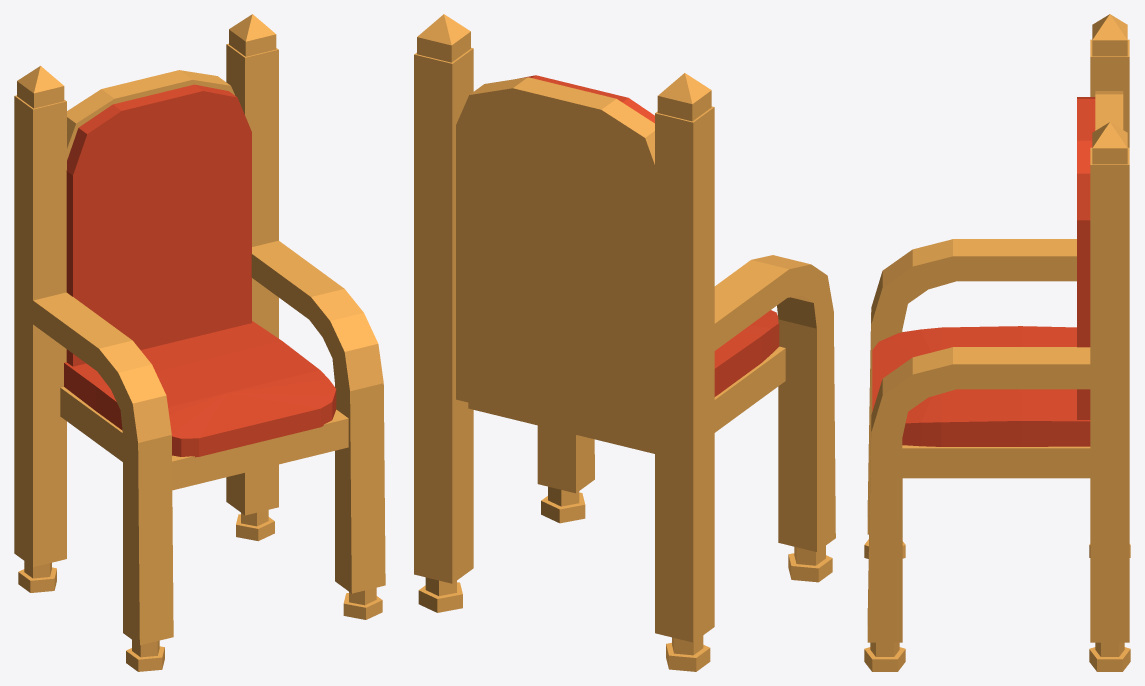
File: chair.fbx
3 views of the same model, side by side, from view 1: azimuth 30°, elevation 25°; view 2: azimuth 150°, elevation 25°; view 3: azimuth 270°, elevation 25° (orthographic). The views are drawn at different scales.
Visible parts, largest first — view 1: chair; view 2: chair; view 3: chair.
Boxes of the visible parts, left/top/right/bottom form: chair: left=14, top=14, right=385, bottom=671; chair: left=414, top=14, right=835, bottom=671; chair: left=864, top=14, right=1130, bottom=671.
Bounding box in the file's own units: 0.7333 × 1.48 × 0.6597.
